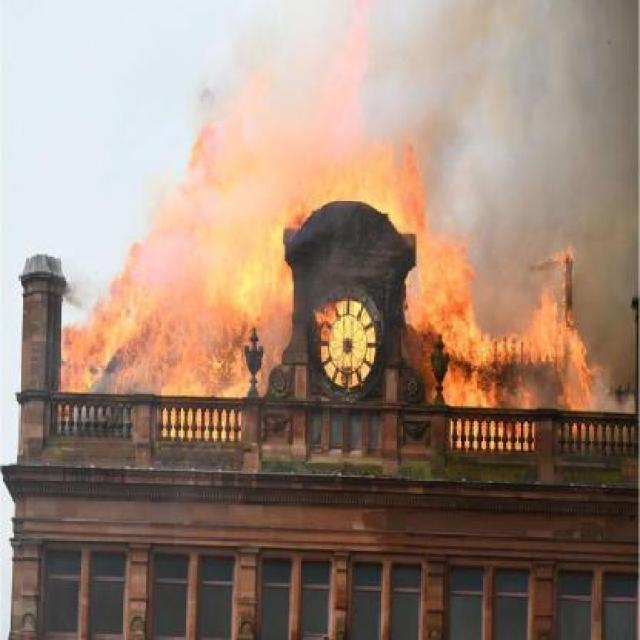Fire: (56, 213, 296, 444), (403, 224, 612, 452), (302, 252, 395, 416), (288, 140, 438, 229)
Smoke: (444, 12, 640, 366), (118, 42, 344, 206)
